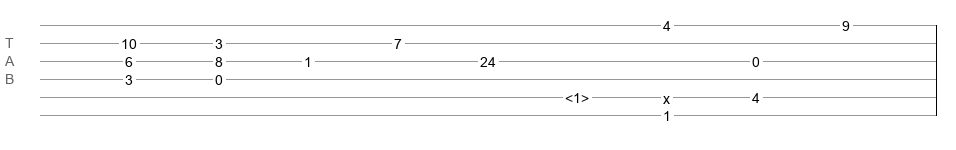0: (215, 72, 223, 82), (752, 54, 760, 64)
1: (304, 54, 312, 64), (663, 108, 671, 118)
10: (121, 36, 137, 46)
24: (480, 54, 496, 64)
3: (125, 72, 133, 82), (215, 36, 223, 46)
4: (663, 18, 671, 28), (752, 90, 760, 100)
6: (125, 54, 133, 64)
7: (394, 36, 402, 46)
8: (215, 54, 223, 64)
9: (842, 18, 850, 28)
harmonic: (565, 90, 589, 100)
x: (663, 91, 670, 99)
